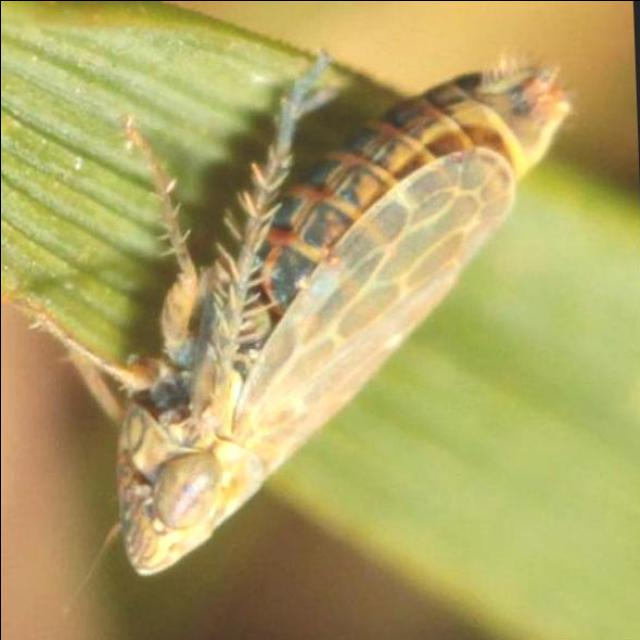green leaf hopper: (35, 57, 567, 574)
